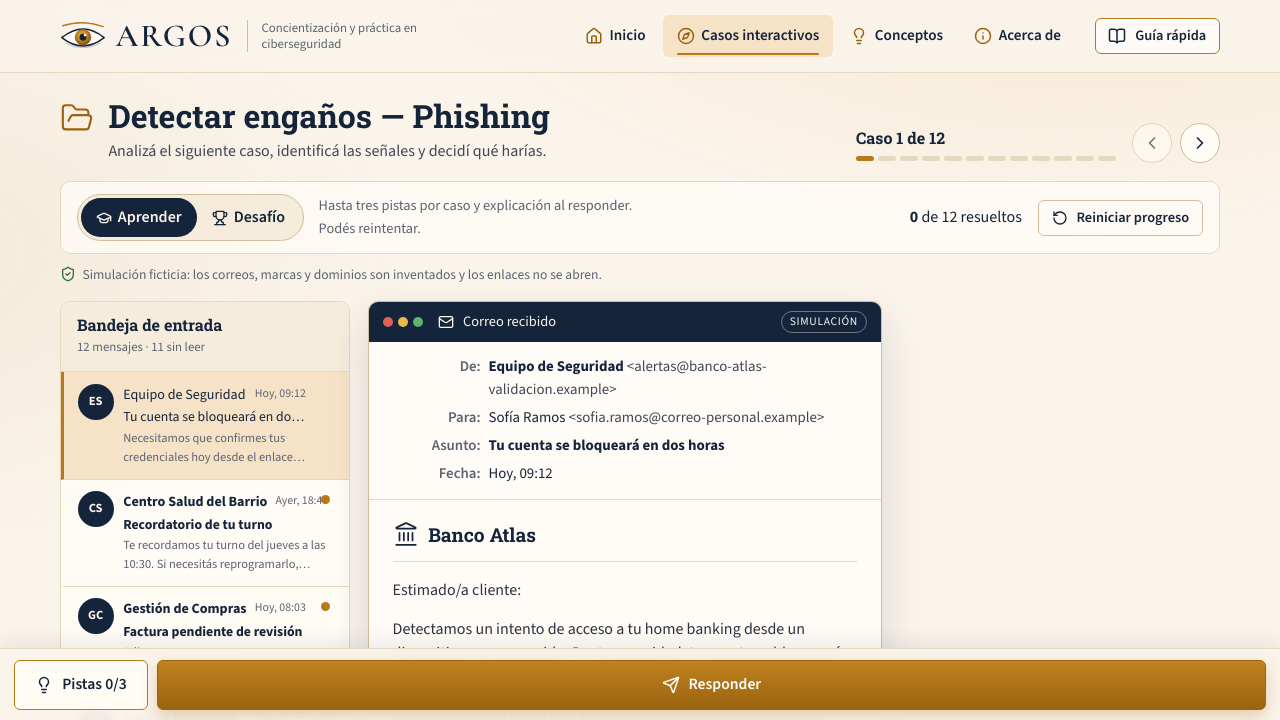
Scenario: simulador en móvil (panel inferior) › las pistas se piden desde el panel y resaltan el correo
Check: the heading "Detectar engaños — Phishing" is shown, box left=108, top=97, right=550, bottom=135
Click the button "Pistas 0/3" at {"x": 81, "y": 685}, box left=14, top=660, right=148, bottom=710
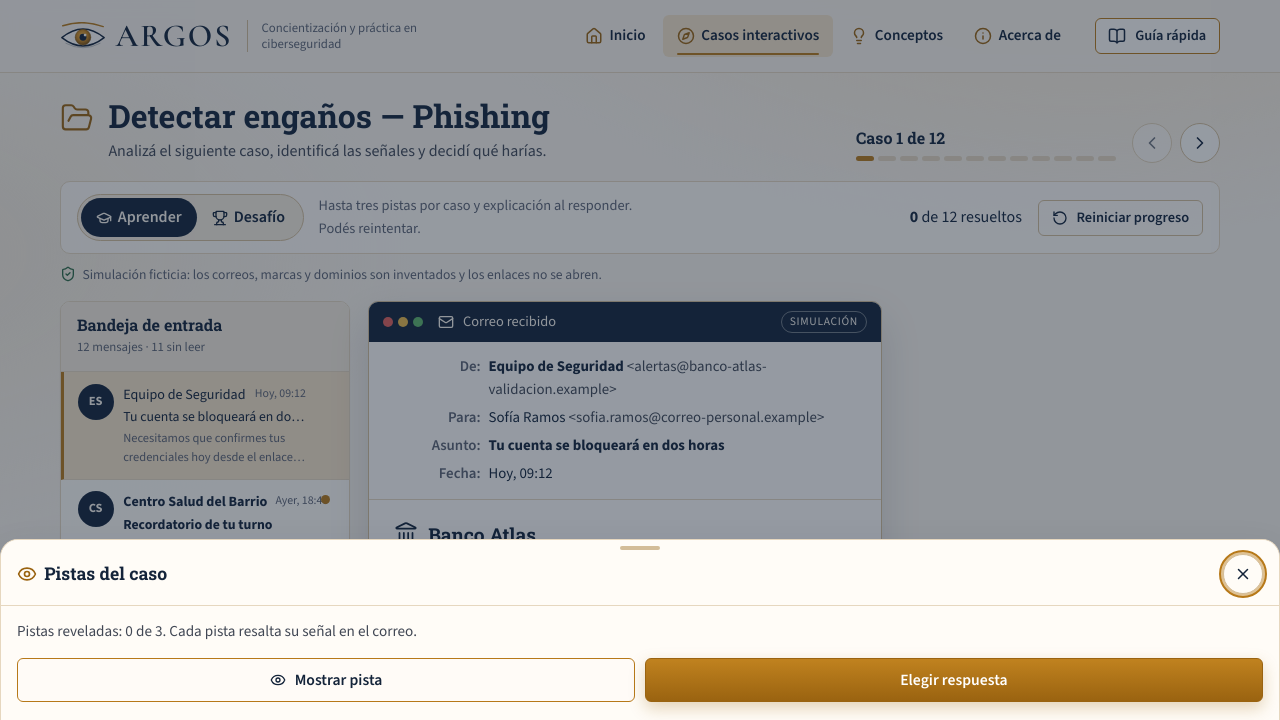
Click the button "Mostrar pista" at {"x": 326, "y": 680}, box left=17, top=658, right=635, bottom=702
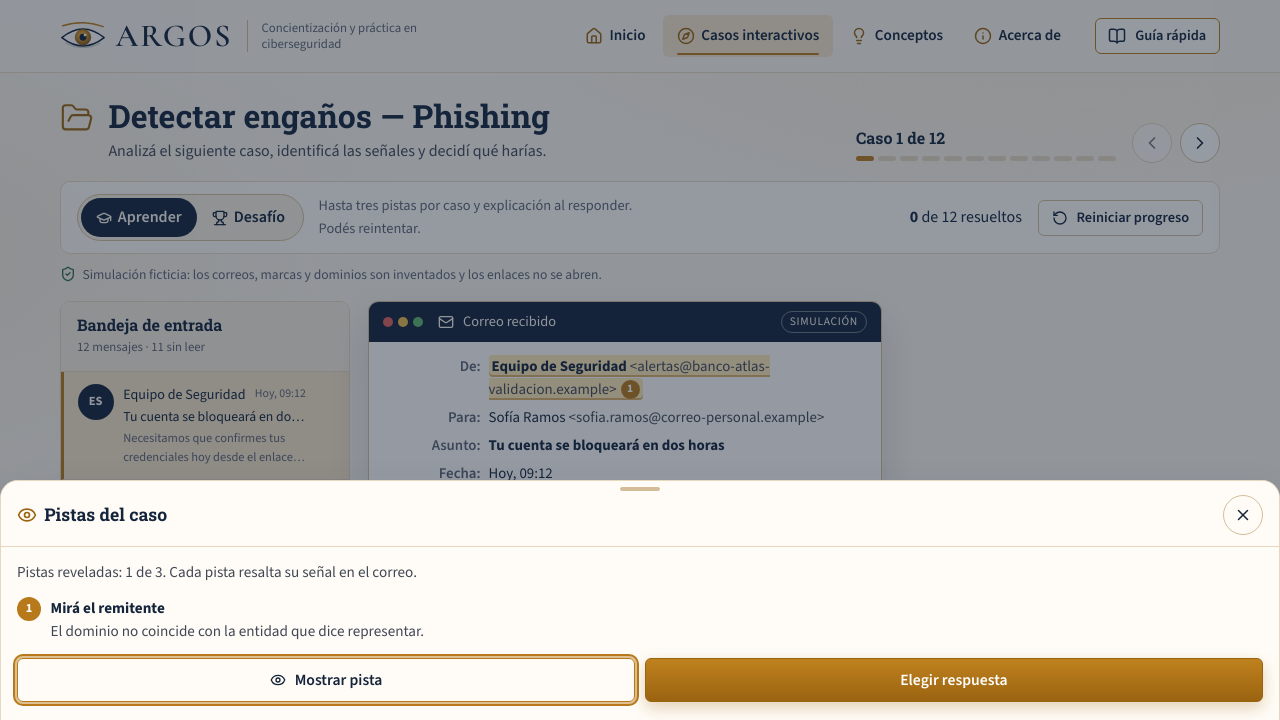
Check: the text "Pistas reveladas: 1 de 3" is shown, box left=17, top=562, right=417, bottom=582
Check: the text "El dominio no coincide" is shown, box left=51, top=622, right=420, bottom=642
Check: the element that starts with "Equipo de Seguridad" is shown, box left=489, top=355, right=770, bottom=400
Click the button "Elegir respuesta" at {"x": 954, "y": 680}, box left=645, top=658, right=1263, bottom=702
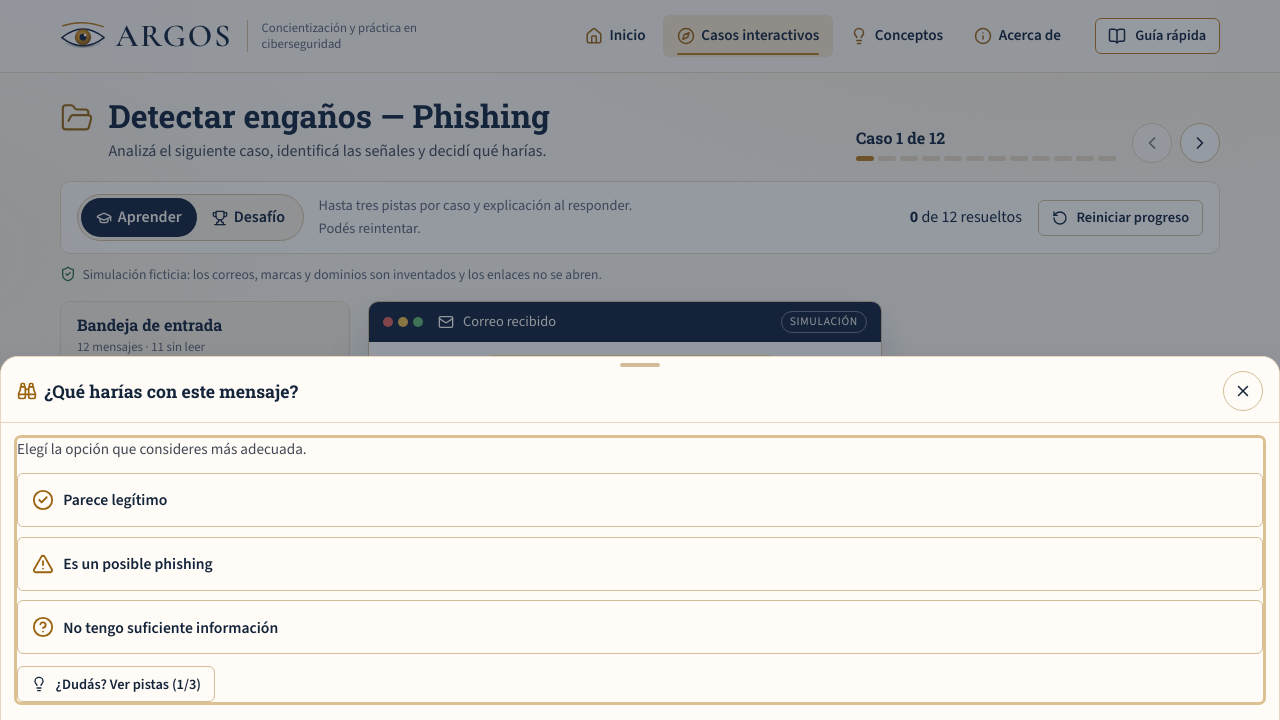
Check: the dialog "Qué harías" is shown, box left=0, top=356, right=1279, bottom=719
